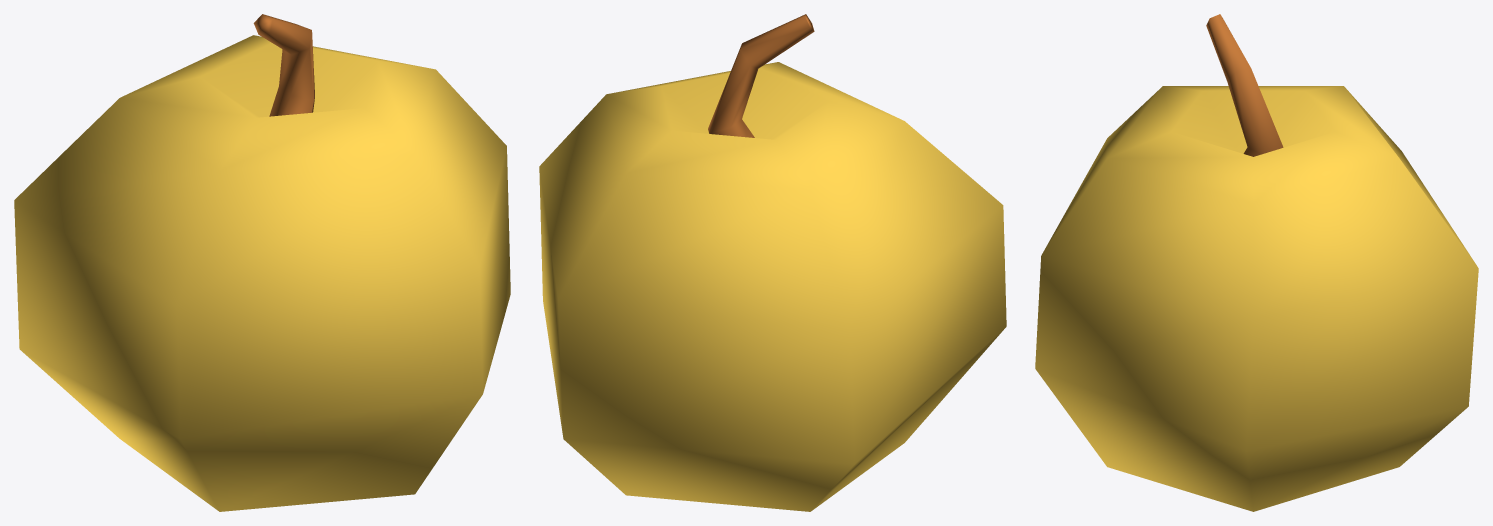
The model's file is Apple_Yellow.fbx.
The picture shows the model from 3 angles, left to right: view 1: azimuth 30°, elevation 25°; view 2: azimuth 150°, elevation 25°; view 3: azimuth 270°, elevation 25°; orthographic projection. The views are drawn at different scales.
Visible parts, largest first — view 1: Apple_Yellow; view 2: Apple_Yellow; view 3: Apple_Yellow.
Part boxes in pixels (x1=…): Apple_Yellow: x1=14, y1=14, x2=510, y2=511; Apple_Yellow: x1=539, y1=14, x2=1006, y2=511; Apple_Yellow: x1=1035, y1=14, x2=1478, y2=511.
Size of the model in its own units: 17.35 by 20.14 by 17.93.
